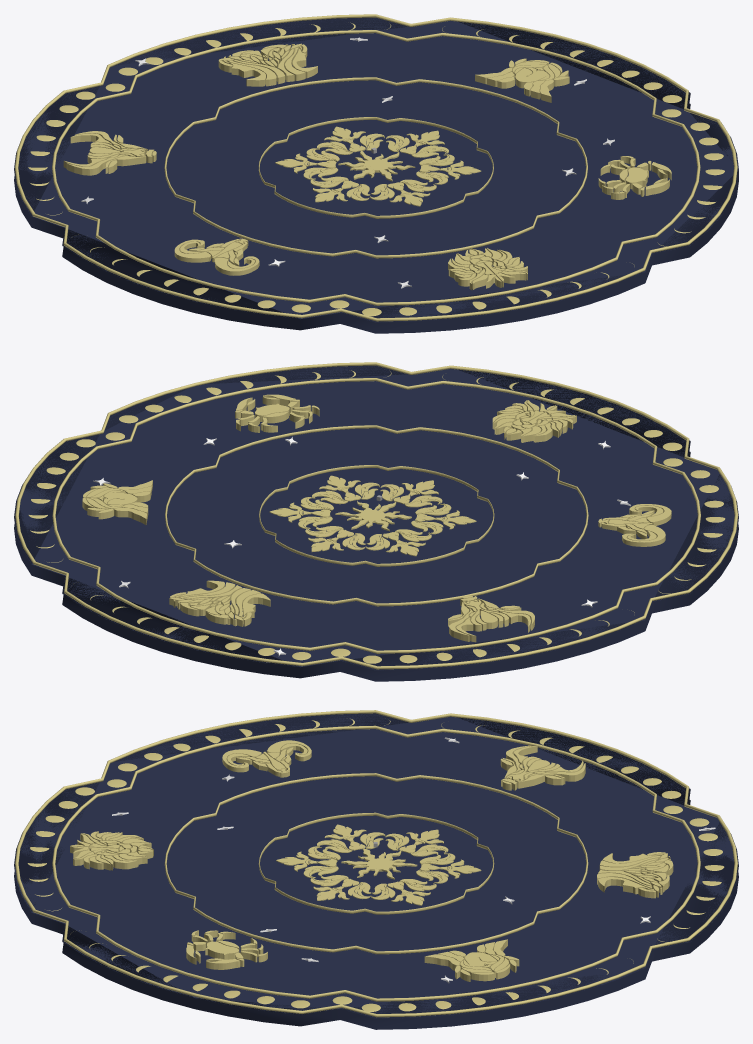
File: platform.fbx
3 views of the same model, one above another, from view 1: azimuth 30°, elevation 25°; view 2: azimuth 150°, elevation 25°; view 3: azimuth 270°, elevation 25° (orthographic).
Visible parts, largest first — view 1: platform; view 2: platform; view 3: platform.
Part boxes in pixels (x1,y1,x2,y2): platform: (14,14,738,333); platform: (14,362,738,681); platform: (14,710,738,1029).
Size of the model in its own units: 176 by 8.74 by 176.
